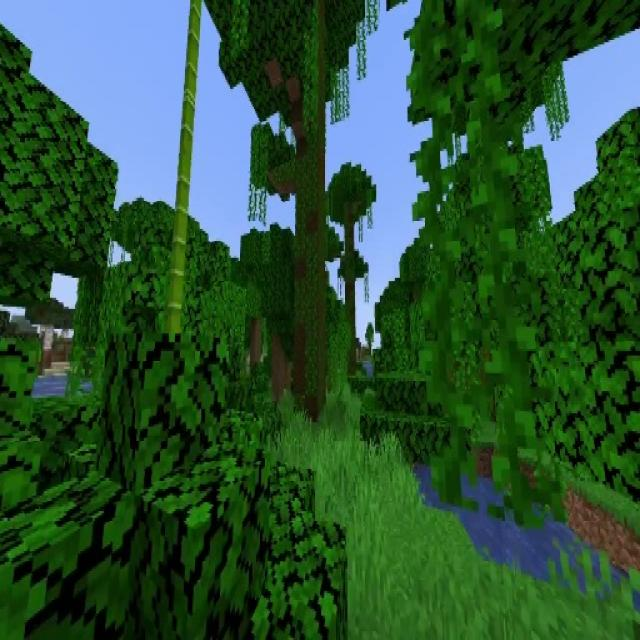jungle: (210, 0, 379, 414), (326, 159, 379, 379)
jungle_log: (296, 124, 327, 418)
